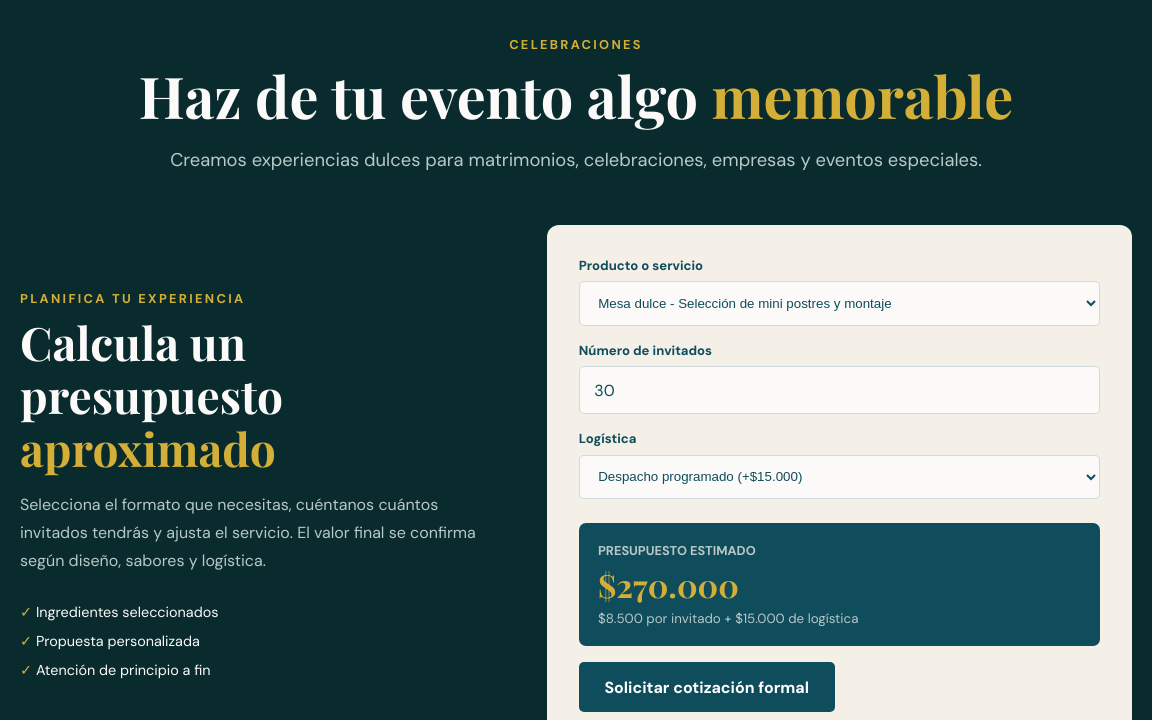
Test: Página de Eventos y Calculadora › permite cambiar la cantidad de invitados
This screenshot has width=1152, height=720.
Replace the text in the number field labelled "Número de invitados" with "50" at (839, 390), box [579, 366, 1100, 414]
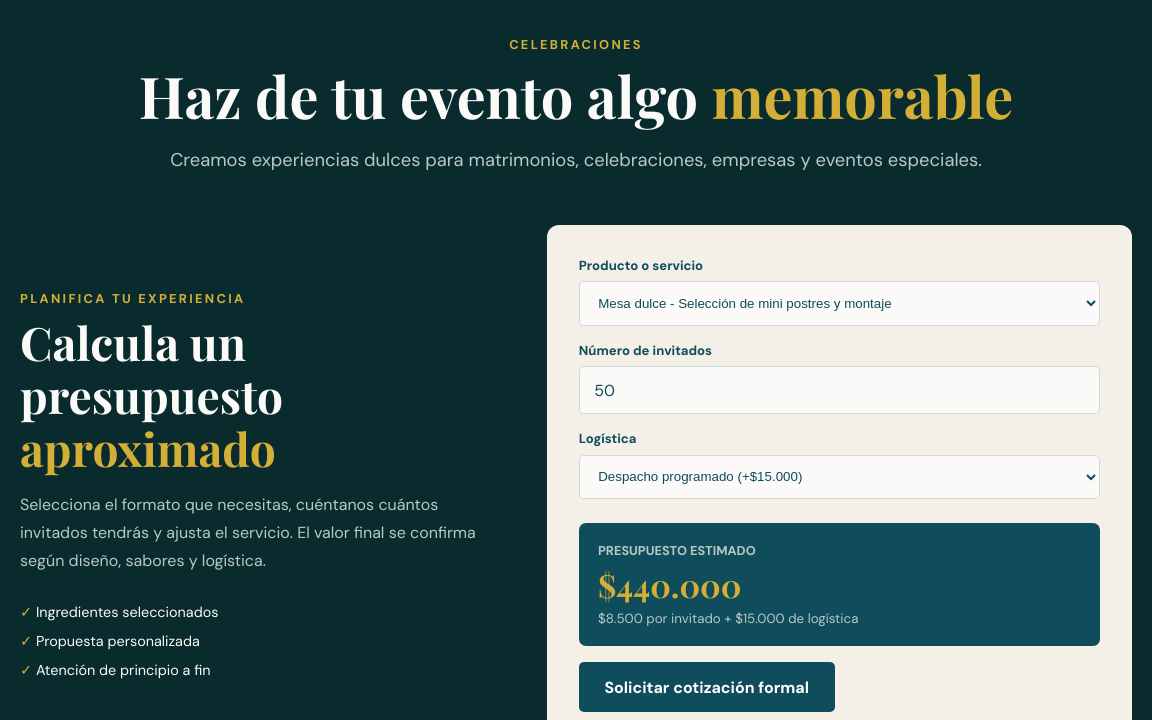
Check: the text "$440.000" is shown, box [598, 563, 741, 606]
